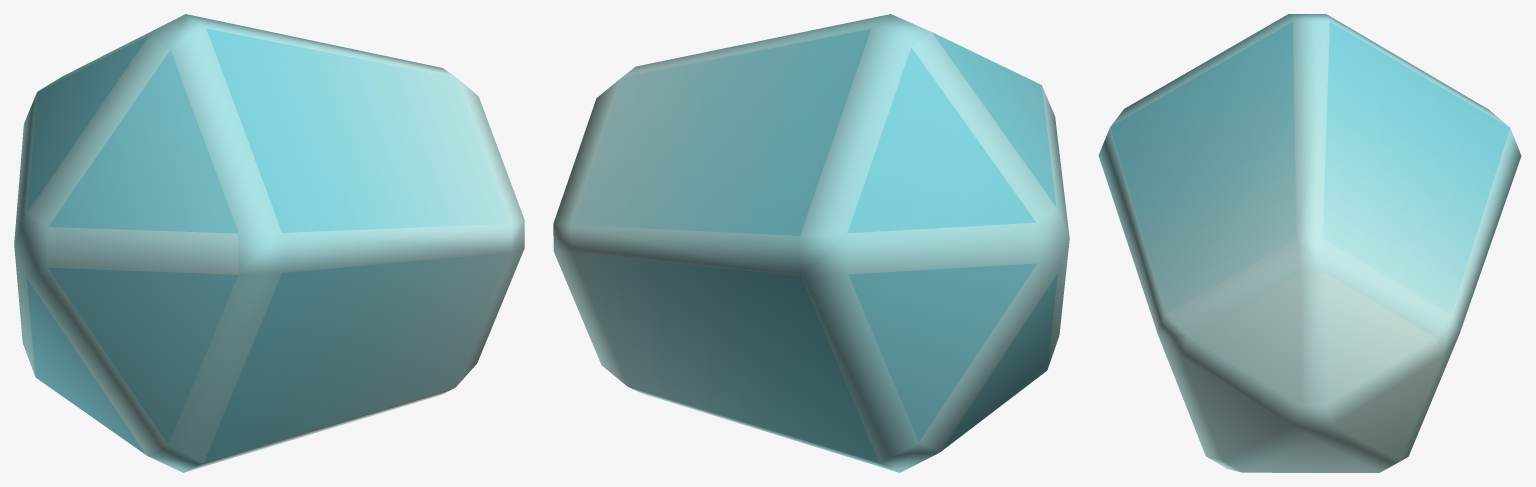
The model's file is christal_diamond_8.fbx.
3 views of the same model, side by side, from view 1: azimuth 30°, elevation 25°; view 2: azimuth 150°, elevation 25°; view 3: azimuth 270°, elevation 25° (orthographic). The views are drawn at different scales.
Visible parts, largest first — view 1: christal_diamond_8; view 2: christal_diamond_8; view 3: christal_diamond_8.
Part boxes in pixels (<box>): christal_diamond_8: <box>14,14,524,472</box>; christal_diamond_8: <box>553,14,1069,472</box>; christal_diamond_8: <box>1098,14,1521,472</box>.
Size of the model in its own units: 34.31 by 26.15 by 27.94.
1 material, 1 textured.
